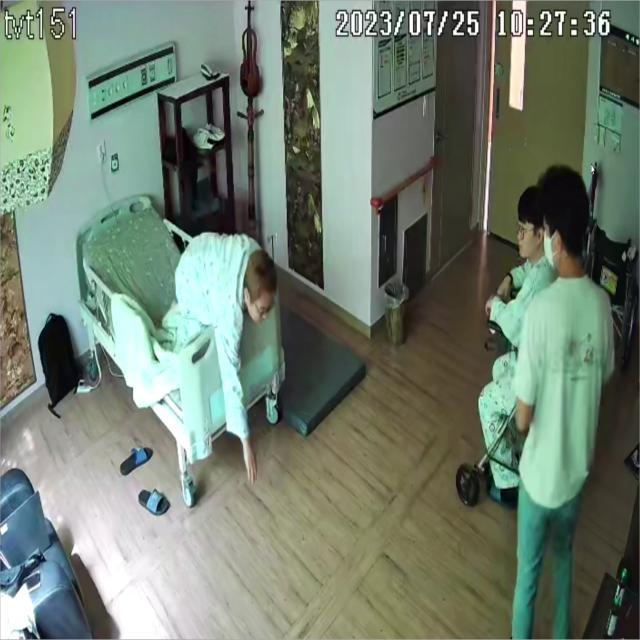danger: (167, 229, 279, 485)
patient: (165, 230, 279, 485)
